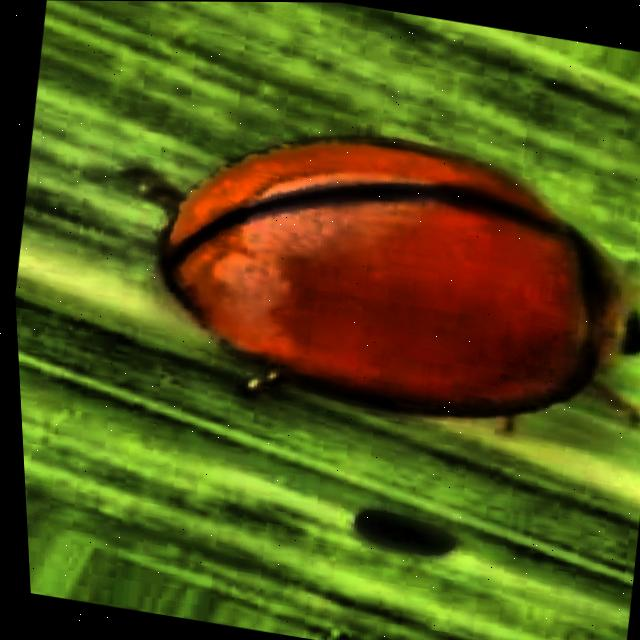Ladybug: (30, 14, 640, 511)
